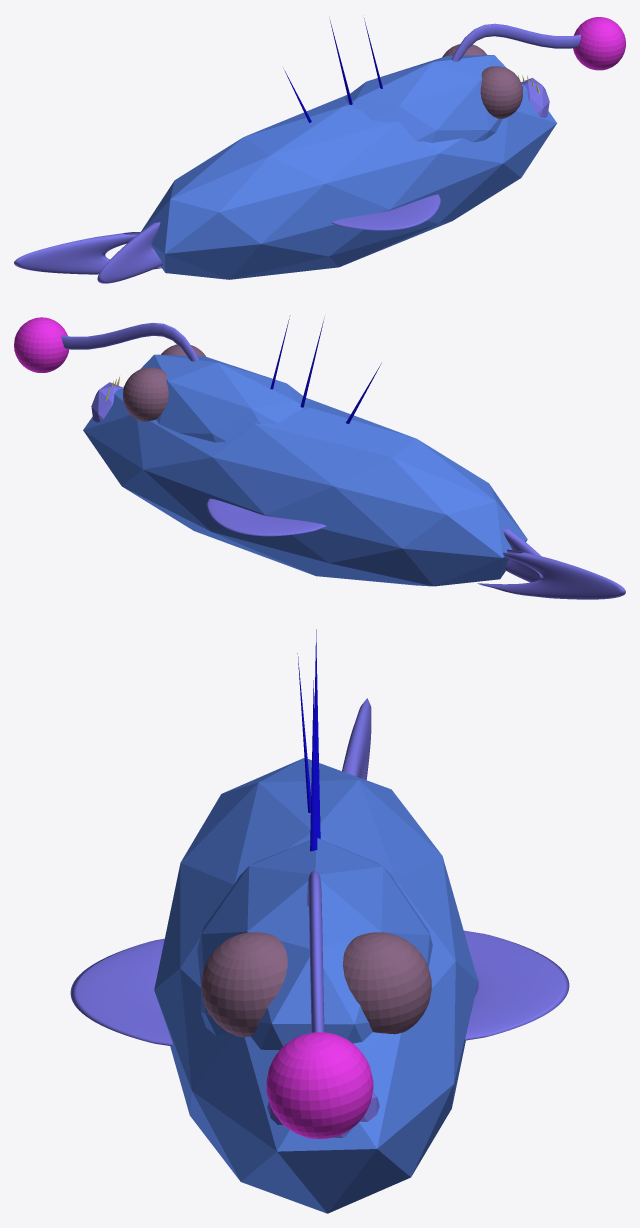
Rendered from angler.gltf.
The picture shows the model from 3 angles, top to bottom: view 1: azimuth 30°, elevation 25°; view 2: azimuth 150°, elevation 25°; view 3: azimuth 270°, elevation 25°; orthographic projection. The views are drawn at different scales.
Parts seen in each view (by area): view 1: Icosphere, Icosphere.001, NurbsCurve.003, Sphere, NurbsCurve.002, NurbsCurve.001, Sphere.002, BézierCurve, Icosphere.002; view 2: Icosphere, Icosphere.001, NurbsCurve.003, Sphere, NurbsCurve, Sphere.001, BézierCurve, NurbsCurve.002, Icosphere.002; view 3: Icosphere, Icosphere.001, Sphere, NurbsCurve, Sphere.001, NurbsCurve.001, Sphere.002, BézierCurve, NurbsCurve.003.
Part boxes in pixels (box(x1,y1,x2,y2)): Icosphere: box(141, 84, 556, 279); Icosphere.001: box(344, 55, 523, 142); NurbsCurve.003: box(14, 232, 161, 274); Sphere: box(573, 17, 625, 70); NurbsCurve.002: box(97, 221, 162, 283); NurbsCurve.001: box(331, 194, 441, 230); Sphere.002: box(480, 66, 522, 118); BézierCurve: box(451, 23, 580, 61); Icosphere.002: box(521, 78, 549, 117); Icosphere: box(83, 389, 527, 586); Icosphere.001: box(123, 354, 309, 442); NurbsCurve.003: box(477, 549, 625, 599); Sphere: box(14, 317, 69, 372); NurbsCurve: box(206, 498, 326, 536); Sphere.001: box(123, 367, 168, 421); BézierCurve: box(61, 323, 198, 361); NurbsCurve.002: box(503, 527, 540, 582); Icosphere.002: box(91, 382, 123, 422); Icosphere: box(154, 758, 477, 1213); Icosphere.001: box(197, 838, 432, 1050); Sphere: box(266, 1032, 373, 1138); NurbsCurve: box(464, 930, 569, 1040); Sphere.001: box(343, 932, 431, 1034); NurbsCurve.001: box(70, 938, 173, 1046); Sphere.002: box(201, 932, 287, 1036); BézierCurve: box(307, 870, 324, 1032); NurbsCurve.003: box(342, 698, 371, 779).
Size of the model in its own units: 8.52 by 3.39 by 3.09.
